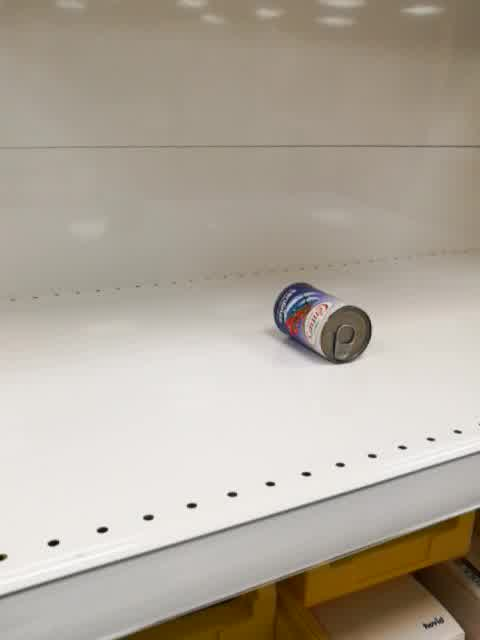sardine: (271, 281, 373, 366)
